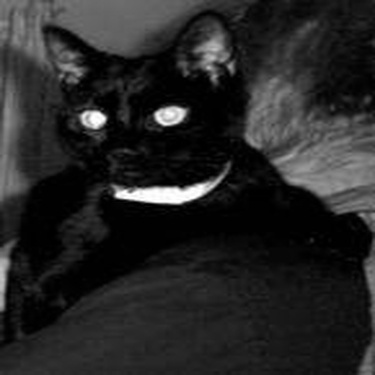cat: (23, 14, 367, 365)
